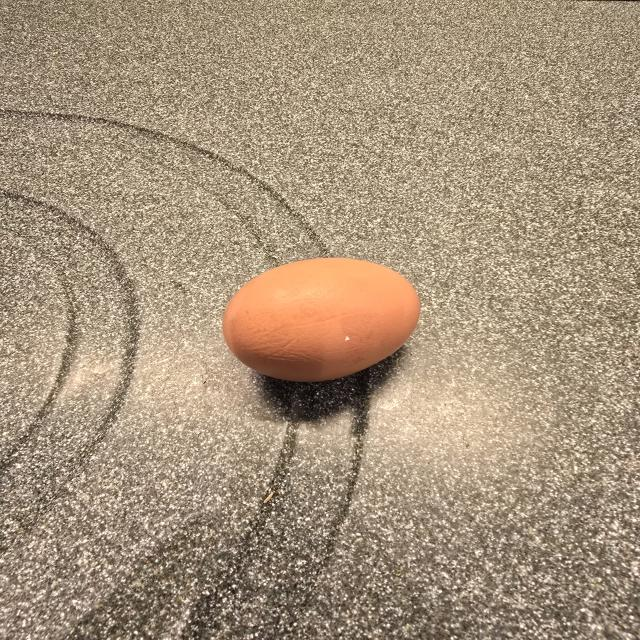Egg: (223, 258, 420, 382)
